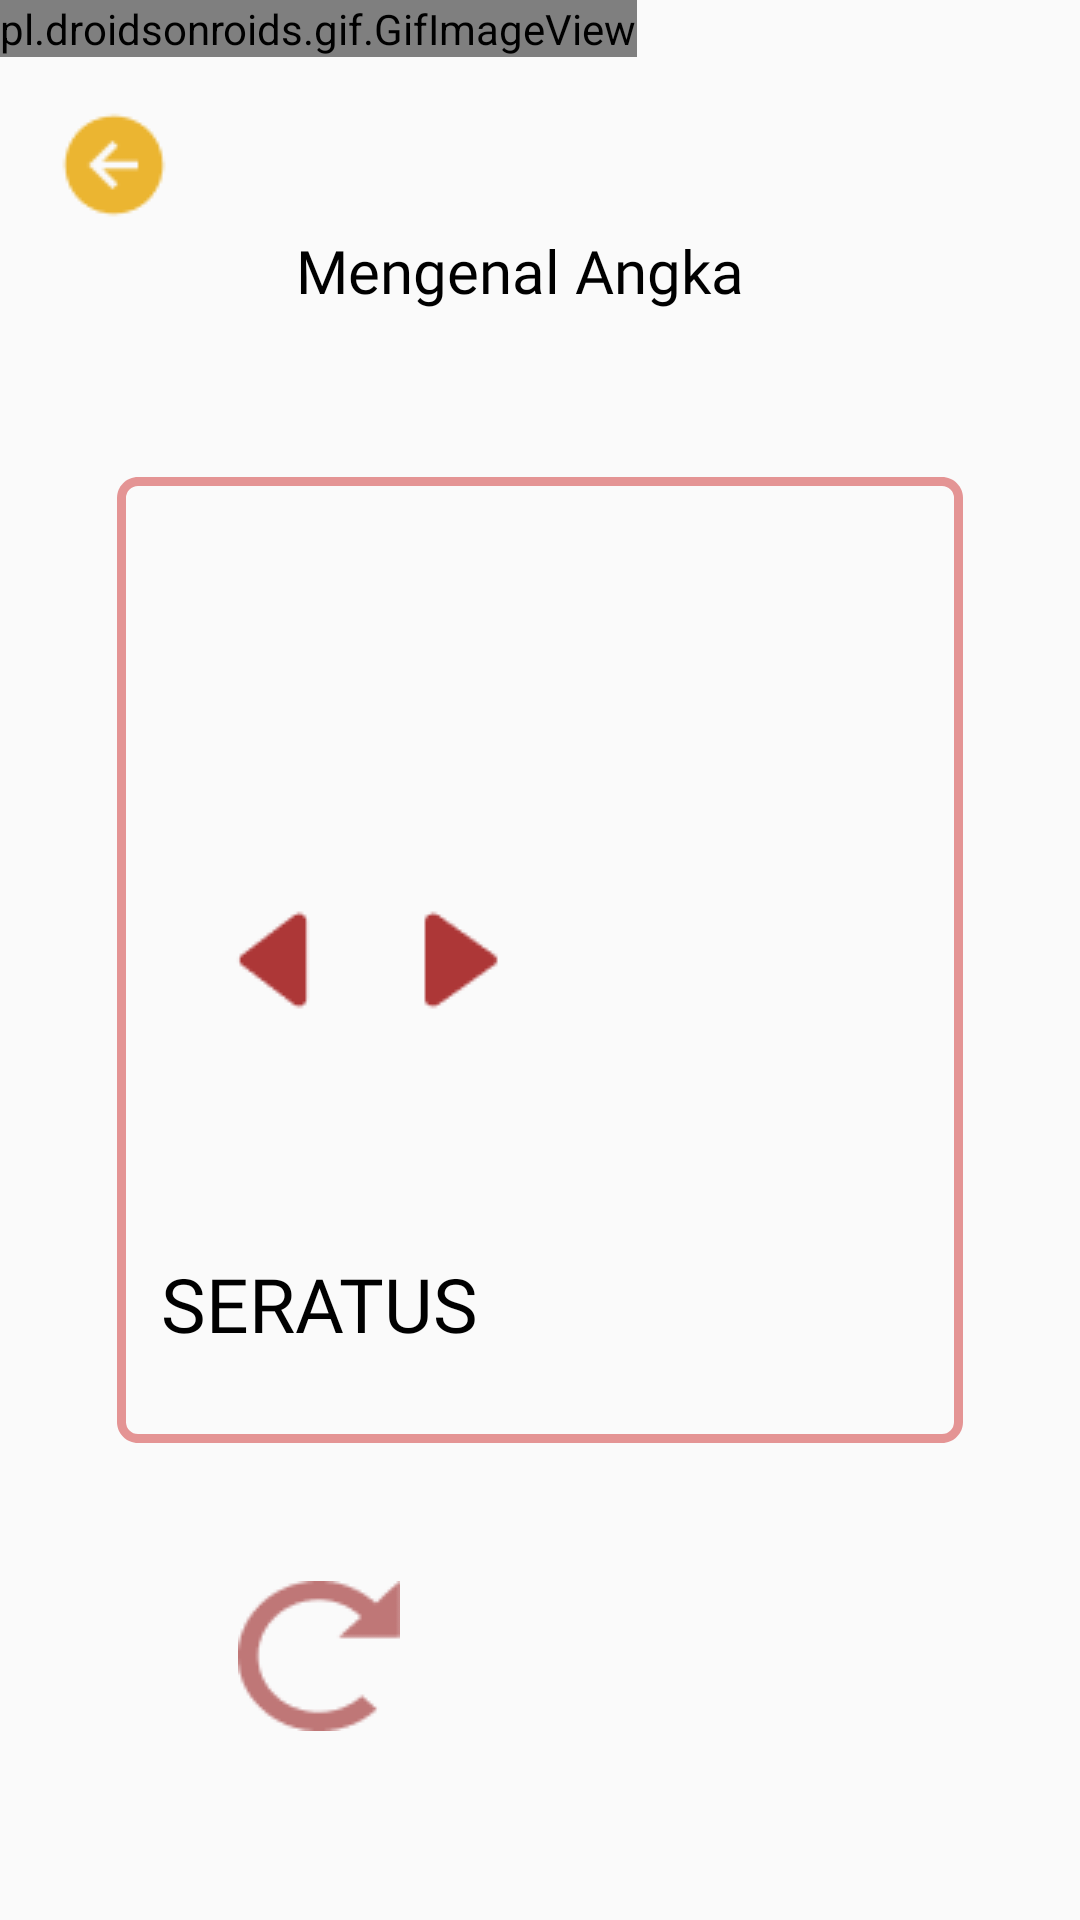

Icons on this 1080x1920 Android screen, each with the point to tap as point (x, y):
next: point (461, 959)
reload: point (319, 1656)
